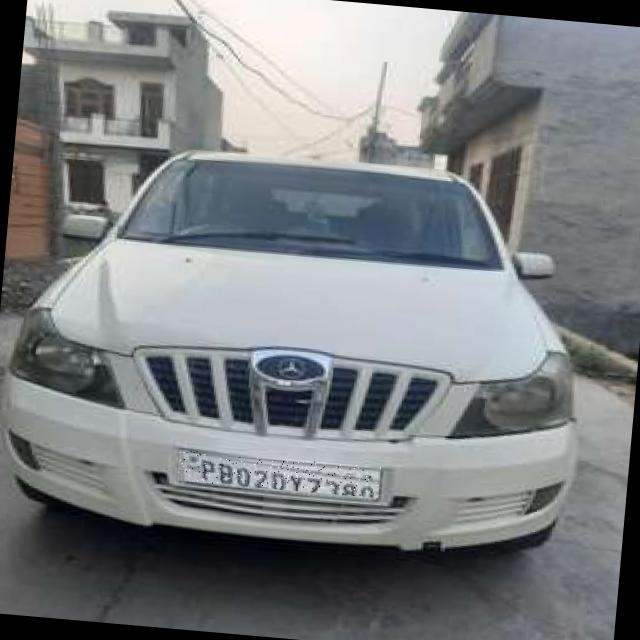Plate: (178, 451, 382, 499)
